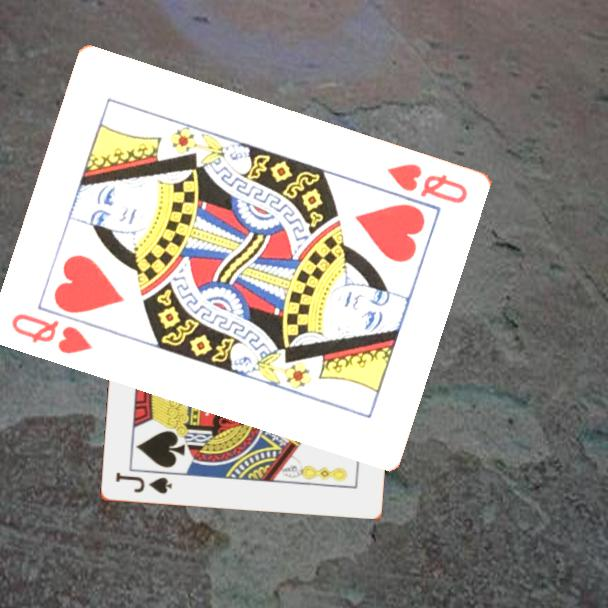h12: (8, 309, 96, 357), (384, 159, 472, 206)
s11: (112, 469, 175, 497)
